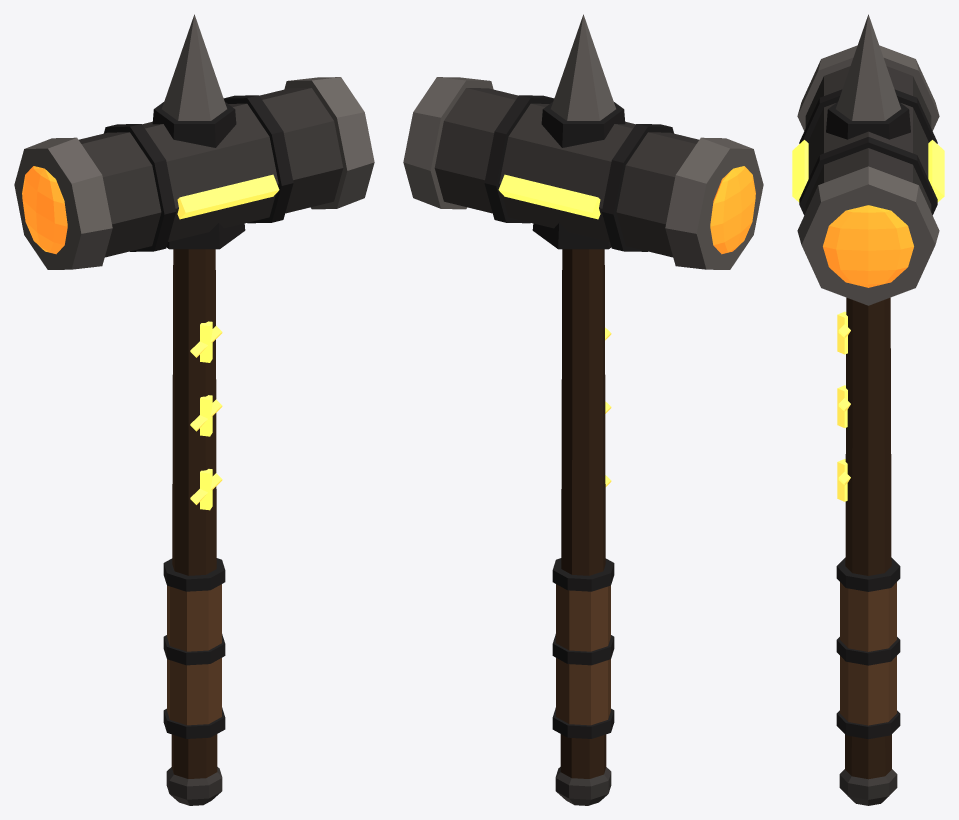
The model's file is ember_greathammer.glb.
The picture shows the model from 3 angles, left to right: view 1: azimuth 30°, elevation 25°; view 2: azimuth 150°, elevation 25°; view 3: azimuth 270°, elevation 25°; orthographic projection.
Parts seen in each view (by area): view 1: ember_greathammer; view 2: ember_greathammer; view 3: ember_greathammer.
Part boxes in pixels (box(x1,y1,x2,y2)): ember_greathammer: box(14, 14, 374, 805); ember_greathammer: box(403, 14, 763, 805); ember_greathammer: box(792, 14, 944, 805).
Size of the model in its own units: 0.54 by 1.28 by 0.225.
